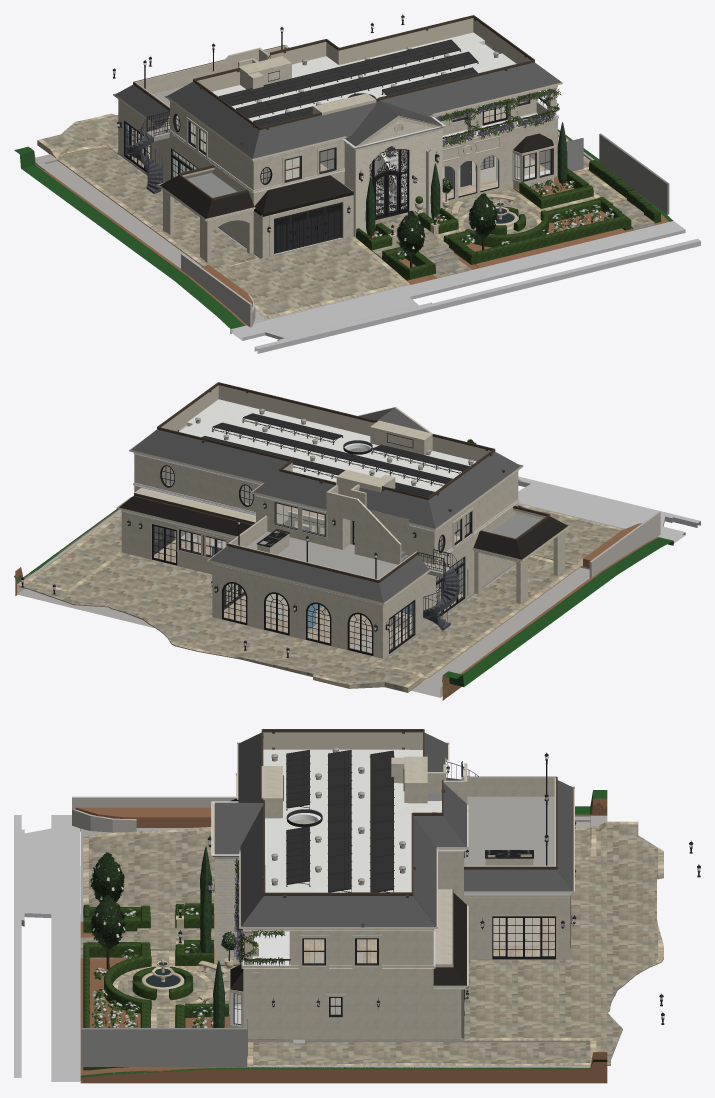
Rendered from exterior-house-b1f5add44809.glb.
3 views of the same model, one above another, from view 1: azimuth 30°, elevation 25°; view 2: azimuth 150°, elevation 25°; view 3: azimuth 270°, elevation 25° (orthographic). The views are drawn at different scales.
Parts seen in each view (by area): view 1: exterior-house-2097c6bf0b01330b, exterior-house-b5dfe7249a3eb059, exterior-house-e7e6fa835f441169, exterior-house-27d577fbd7f2ff4b, exterior-house-aee2d046b0172b1e, exterior-house-772a07b3069847f0, exterior-house-e33d7b378dc851e2, exterior-house-d56ee2a9d54b1fc2, exterior-house-8ae50a6395ceb8a4, exterior-house-0b9d5d1cd0b2c60f, exterior-house-7cf8e5cfa8b264af, exterior-house-25c3ff3929e46046 (+47 smaller); view 2: exterior-house-37d1b262fca80116, exterior-house-d56ee2a9d54b1fc2, exterior-house-27d577fbd7f2ff4b, exterior-house-8ae50a6395ceb8a4, exterior-house-969b861f9850351e, exterior-house-aee2d046b0172b1e, exterior-house-c91f911e25c8cae7, exterior-house-5febae1537653d02, exterior-house-b5dfe7249a3eb059, exterior-house-3763e2fb8578d282, exterior-house-2c1fd33d433632d0, exterior-house-0cae3eb2f2d52fad (+39 smaller); view 3: exterior-house-37d1b262fca80116, exterior-house-aee2d046b0172b1e, exterior-house-b5dfe7249a3eb059, exterior-house-d56ee2a9d54b1fc2, exterior-house-2097c6bf0b01330b, exterior-house-2c1fd33d433632d0, exterior-house-07f5bde4319b7ab4, exterior-house-e7e6fa835f441169, exterior-house-a75a0c9c223328ee, exterior-house-ded88bd99590d377, exterior-house-af97eba351c411ae, exterior-house-e706aa16b4547c37 (+54 smaller).
Part boxes in pixels (x1,y1,x2,y2): exterior-house-2097c6bf0b01330b: (216, 236, 409, 318); exterior-house-b5dfe7249a3eb059: (230, 221, 685, 340); exterior-house-e7e6fa835f441169: (356, 182, 625, 280); exterior-house-27d577fbd7f2ff4b: (57, 147, 260, 269); exterior-house-aee2d046b0172b1e: (14, 129, 673, 333); exterior-house-772a07b3069847f0: (254, 238, 700, 353); exterior-house-e33d7b378dc851e2: (380, 62, 560, 115); exterior-house-d56ee2a9d54b1fc2: (212, 32, 516, 121); exterior-house-8ae50a6395ceb8a4: (35, 132, 594, 323); exterior-house-0b9d5d1cd0b2c60f: (236, 51, 478, 118); exterior-house-7cf8e5cfa8b264af: (218, 39, 461, 105); exterior-house-25c3ff3929e46046: (253, 101, 377, 158); exterior-house-37d1b262fca80116: (18, 552, 427, 692); exterior-house-d56ee2a9d54b1fc2: (181, 399, 476, 491); exterior-house-27d577fbd7f2ff4b: (377, 555, 580, 677); exterior-house-8ae50a6395ceb8a4: (17, 503, 624, 697); exterior-house-969b861f9850351e: (212, 566, 380, 657); exterior-house-aee2d046b0172b1e: (14, 509, 673, 700); exterior-house-c91f911e25c8cae7: (131, 429, 288, 482); exterior-house-5febae1537653d02: (209, 546, 383, 602); exterior-house-b5dfe7249a3eb059: (518, 484, 685, 543); exterior-house-3763e2fb8578d282: (134, 454, 259, 512); exterior-house-2c1fd33d433632d0: (28, 512, 121, 589); exterior-house-0cae3eb2f2d52fad: (428, 451, 520, 528); exterior-house-37d1b262fca80116: (464, 821, 663, 1065); exterior-house-aee2d046b0172b1e: (80, 790, 607, 1083); exterior-house-b5dfe7249a3eb059: (24, 815, 81, 1081); exterior-house-d56ee2a9d54b1fc2: (263, 749, 441, 892); exterior-house-2097c6bf0b01330b: (83, 828, 214, 921); exterior-house-2c1fd33d433632d0: (247, 1041, 590, 1065); exterior-house-07f5bde4319b7ab4: (81, 1028, 247, 1066); exterior-house-e7e6fa835f441169: (83, 903, 228, 1027); exterior-house-a75a0c9c223328ee: (241, 896, 436, 926); exterior-house-ded88bd99590d377: (464, 796, 554, 865); exterior-house-af97eba351c411ae: (372, 979, 461, 1038); exterior-house-e706aa16b4547c37: (464, 897, 567, 959).
Size of the model in its own units: 31.9 by 8.68 by 35.2.
Materials: 110 (31 with a texture image).
